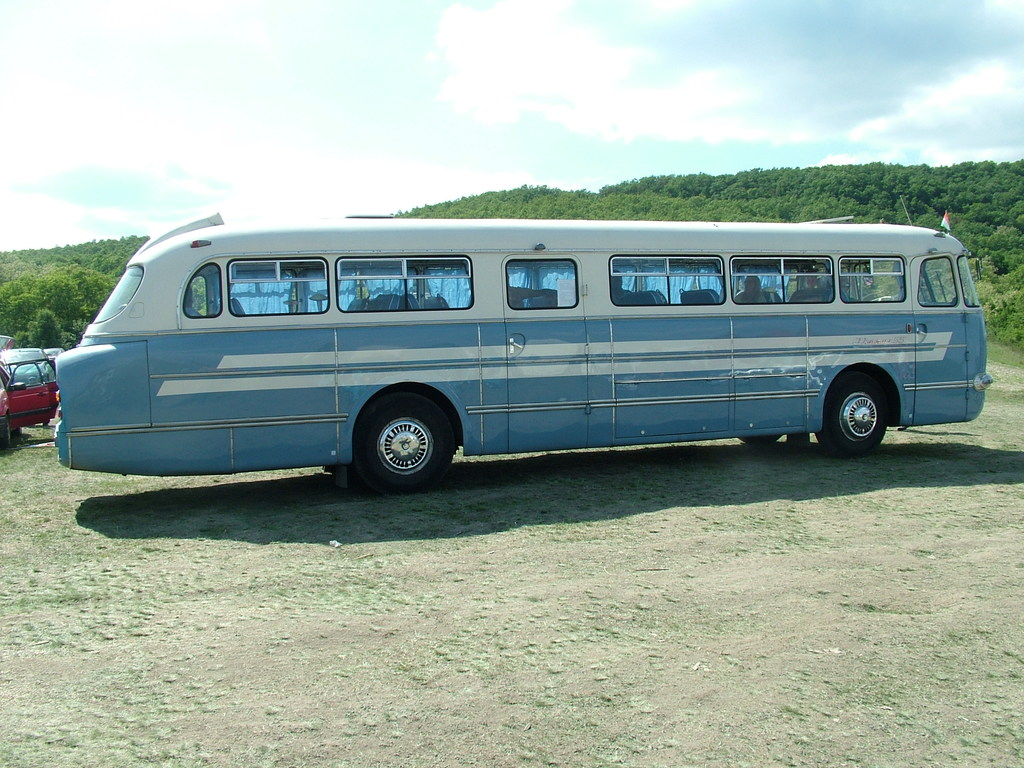Bus: (52, 192, 994, 494)
